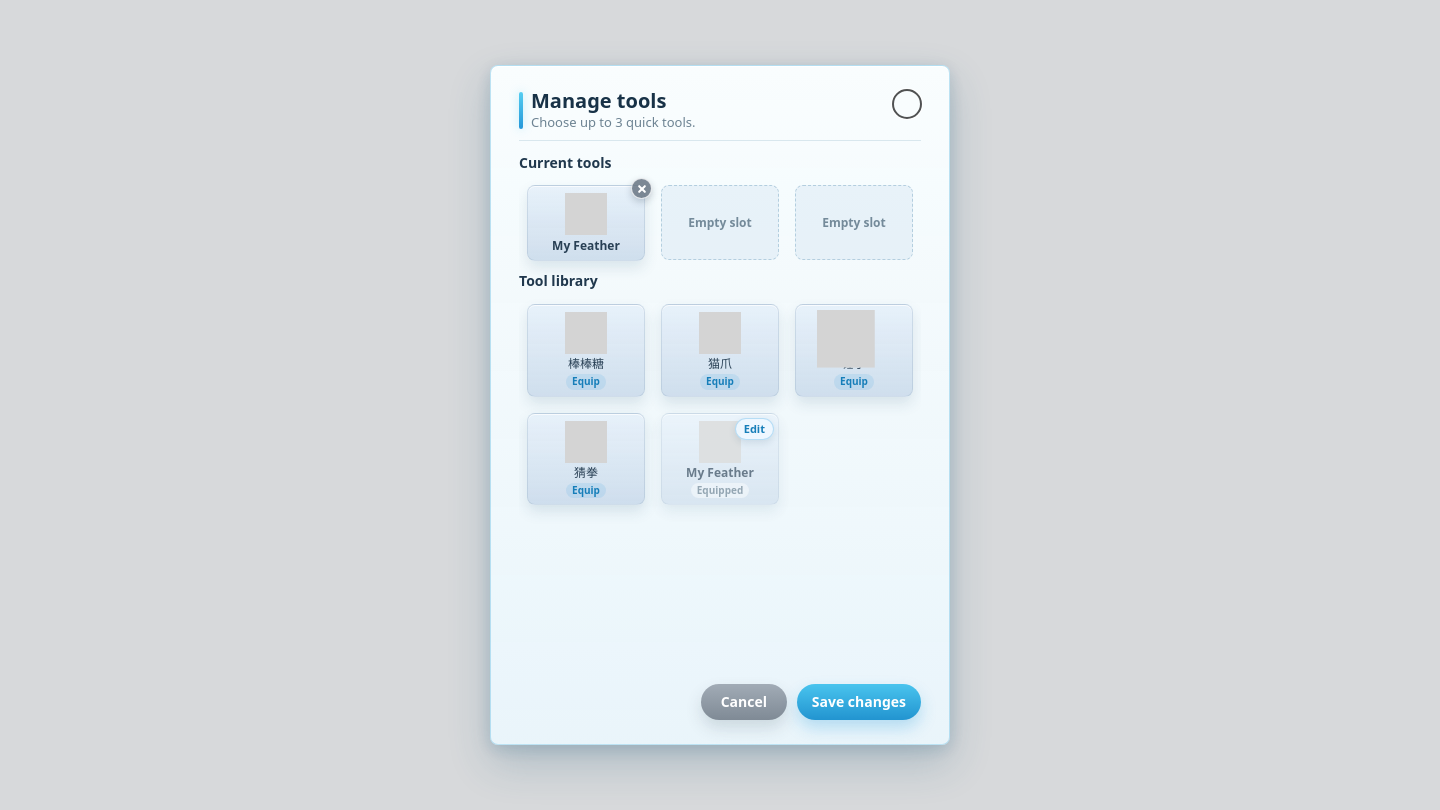
AvatarToolItemManager local creation › projects an existing v2 tool into equal image cards without losing retained resources
Click the button with aria-label "Edit My Feather" at (754, 428), box [735,418,774,440]
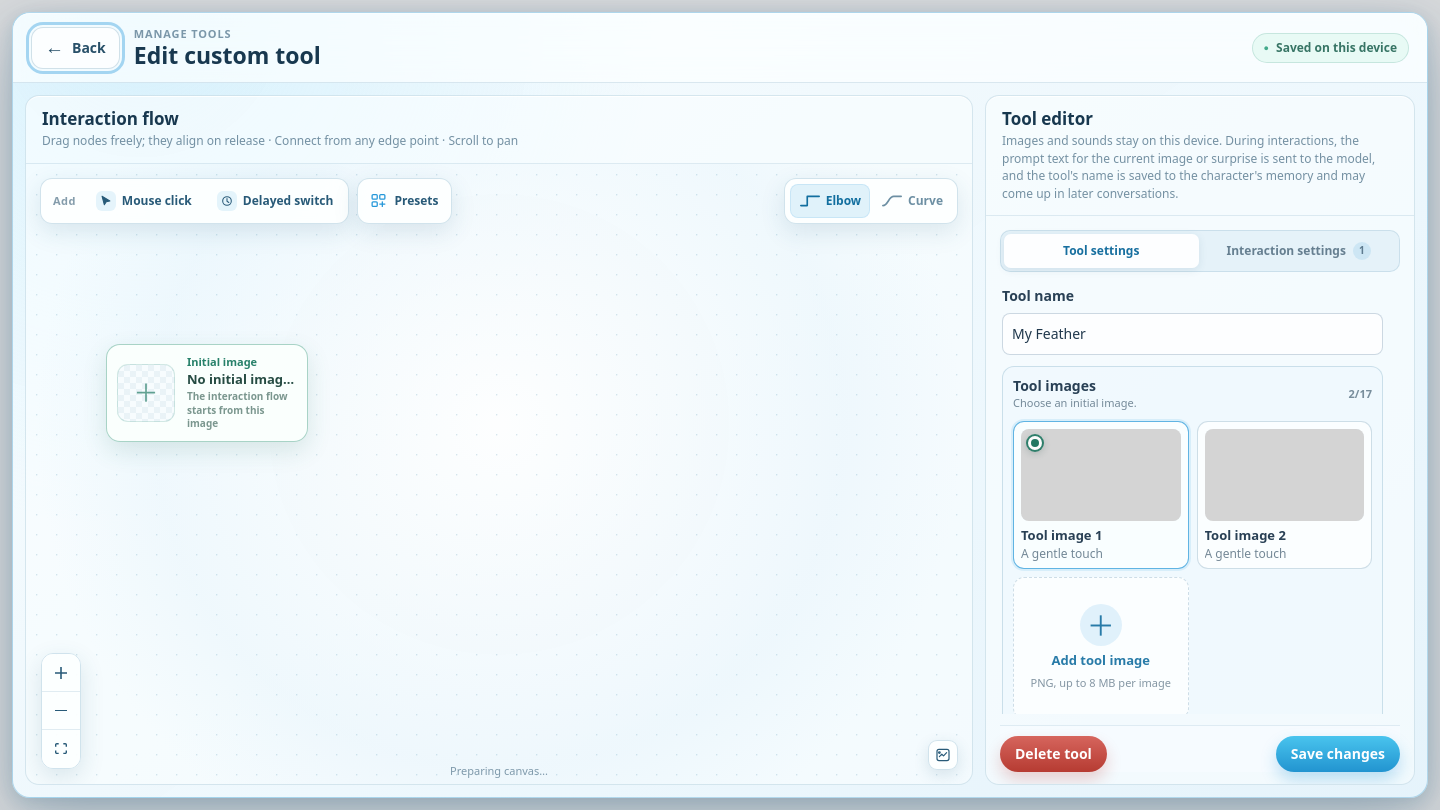
expect the dialog "Edit custom tool" is shown: met
expect the field labelled "Tool name" holds "My Feather": met, box [1002,313,1383,355]
expect the element with class "avatar-tool-image-card-initial-badge" is empty: met, box [1026,434,1044,452]
Click the button with aria-label "Edit Tool image 2" at (1284, 495), box [1204,429,1364,561]
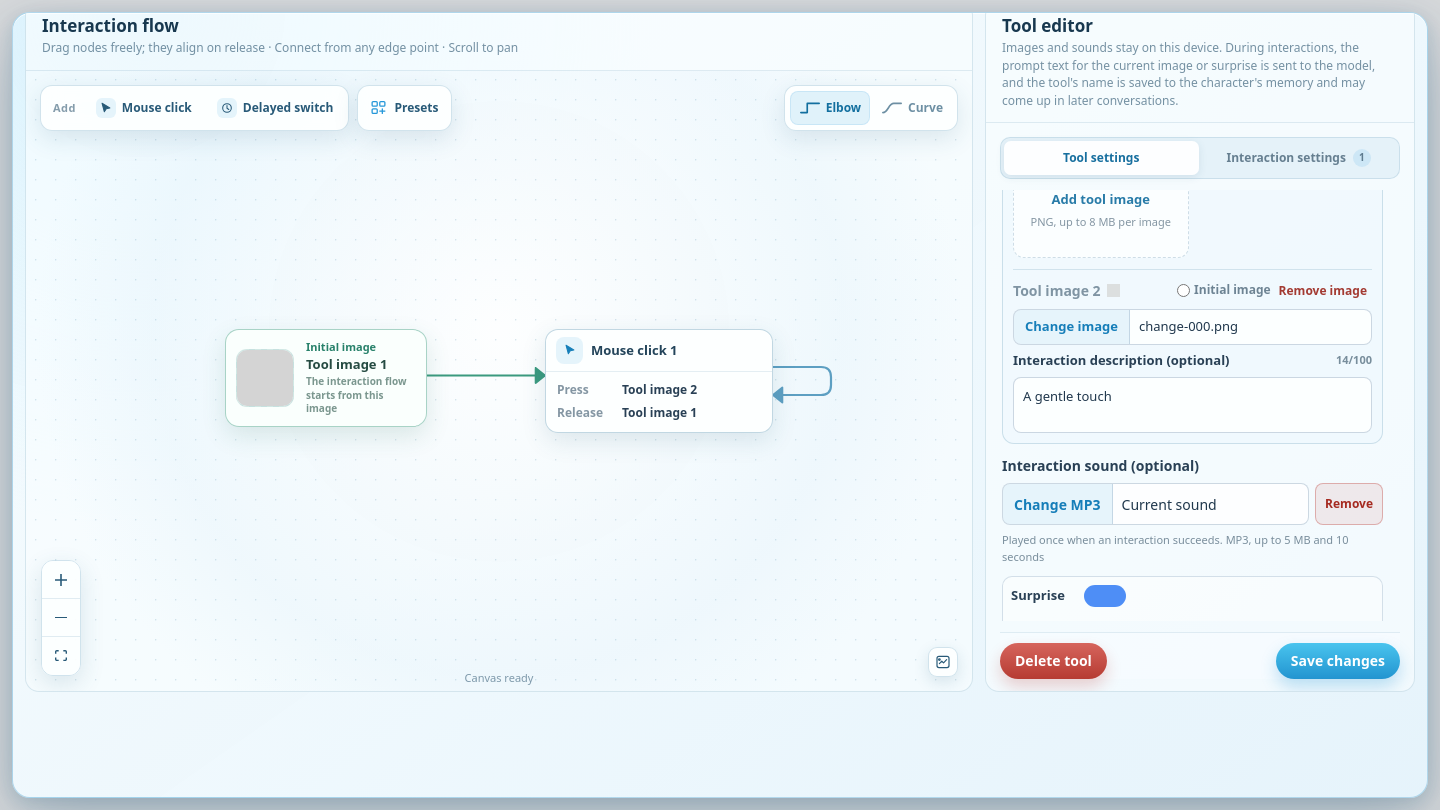
expect the text box named "Interaction description for tool image 2 (optional)" holds "A gentle touch": met, box [1013,377,1372,433]
expect the text "Current sound" is shown 2 times: met
